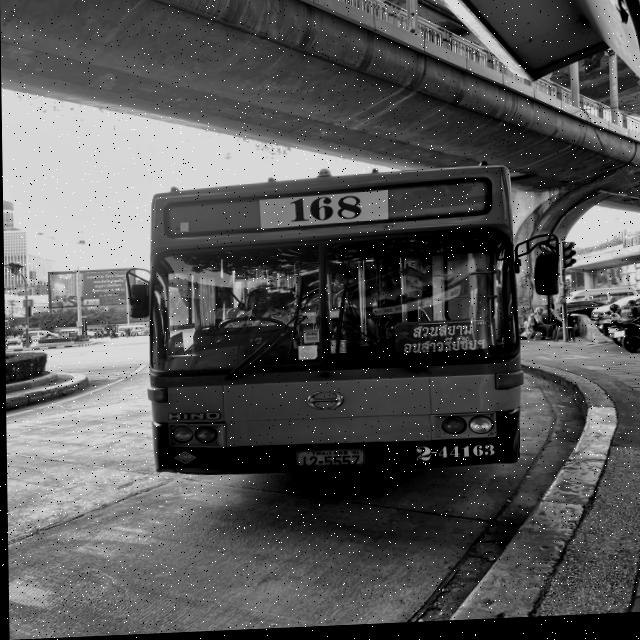BMTA-bus: (144, 171, 523, 483)
Bus-Line-Number: (258, 194, 390, 235)
Destination-Sign-Normal: (388, 319, 497, 361)
